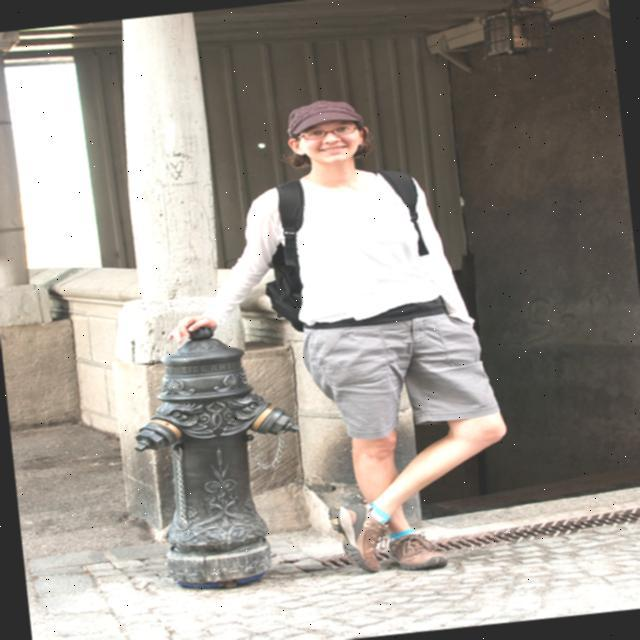fire_hydrant: (120, 316, 316, 596)
